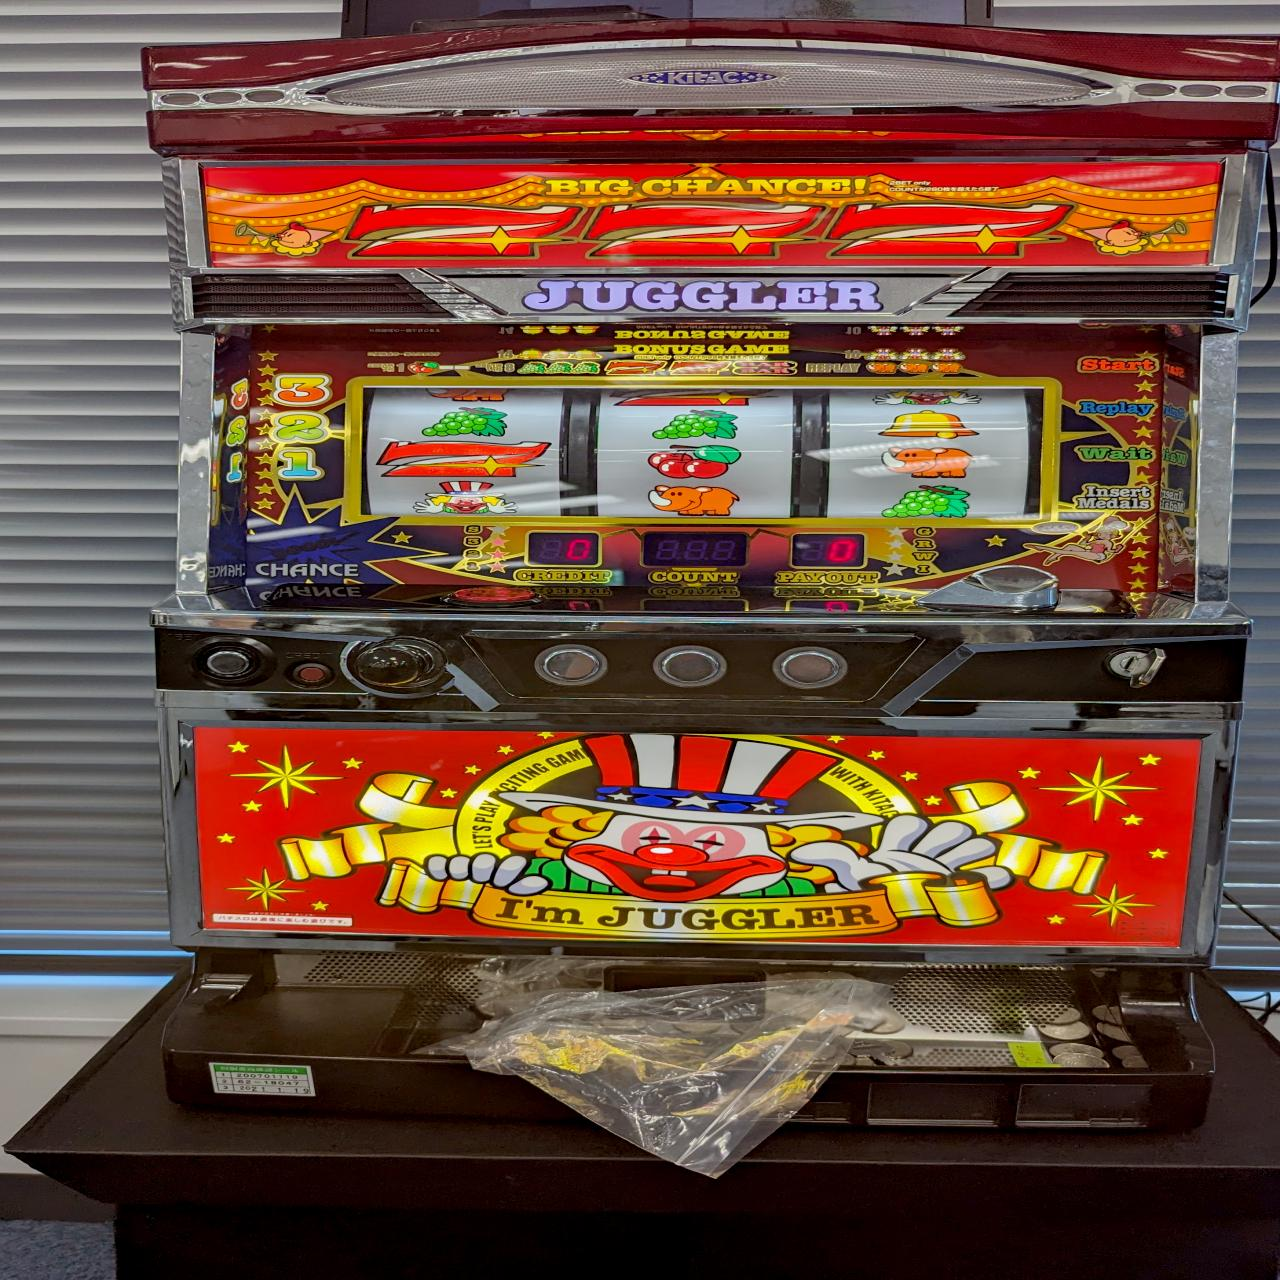7: (367, 437, 553, 479)
Display: (353, 380, 1047, 520)
bell: (873, 408, 982, 441)
cherry: (648, 442, 744, 483)
clown: (408, 481, 523, 517)
grape: (878, 483, 976, 520), (641, 407, 743, 442), (420, 406, 511, 440)
rhino: (876, 444, 979, 481), (644, 483, 745, 517)
